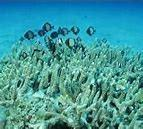bleached_corals: (0, 34, 143, 129)
